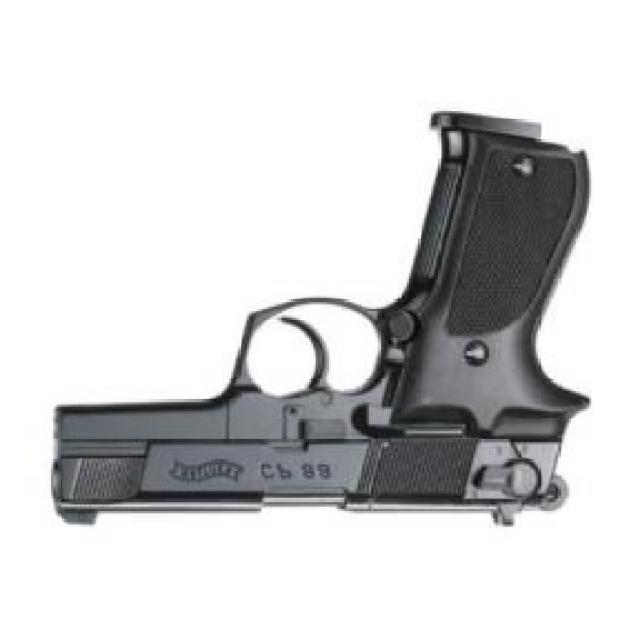pistol: (49, 110, 597, 533)
